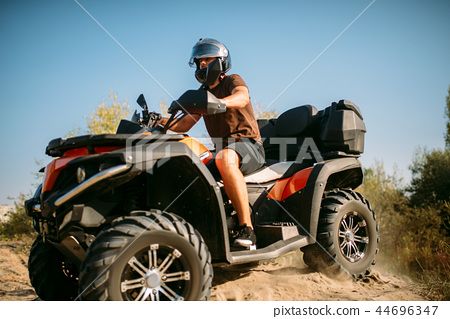helmet: (190, 38, 231, 76)
